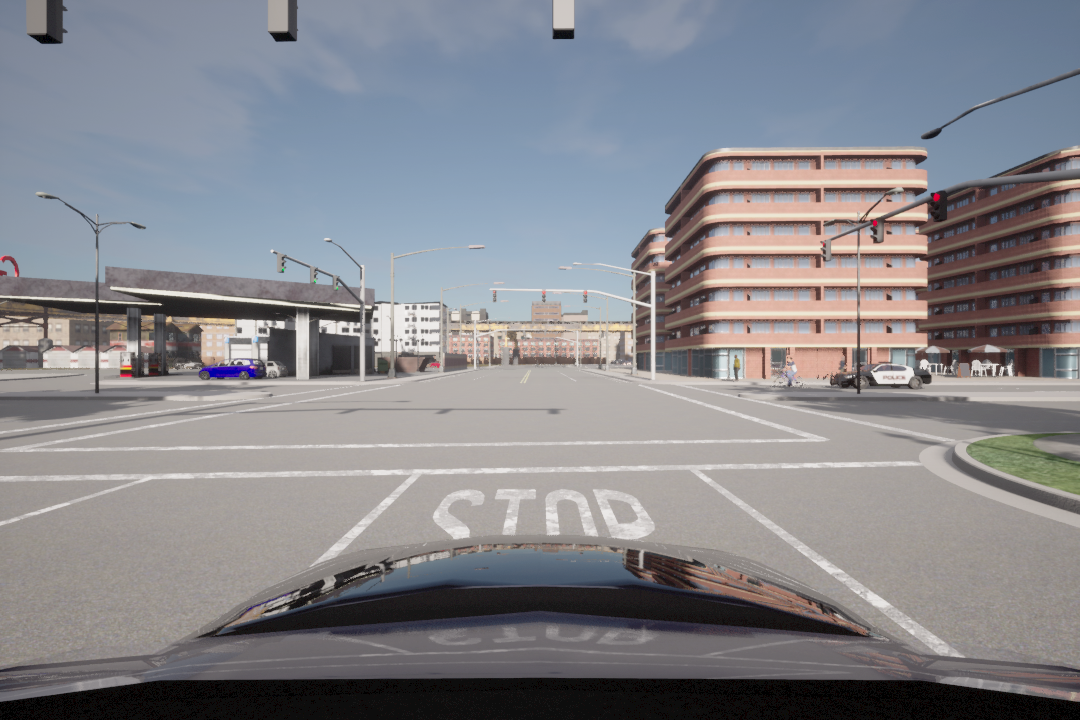TrafficLight: (924, 187, 946, 225), (868, 217, 888, 246), (821, 236, 834, 263), (307, 264, 320, 285), (579, 287, 591, 304), (277, 253, 287, 273), (331, 275, 340, 294), (540, 289, 547, 304), (491, 287, 497, 304)
